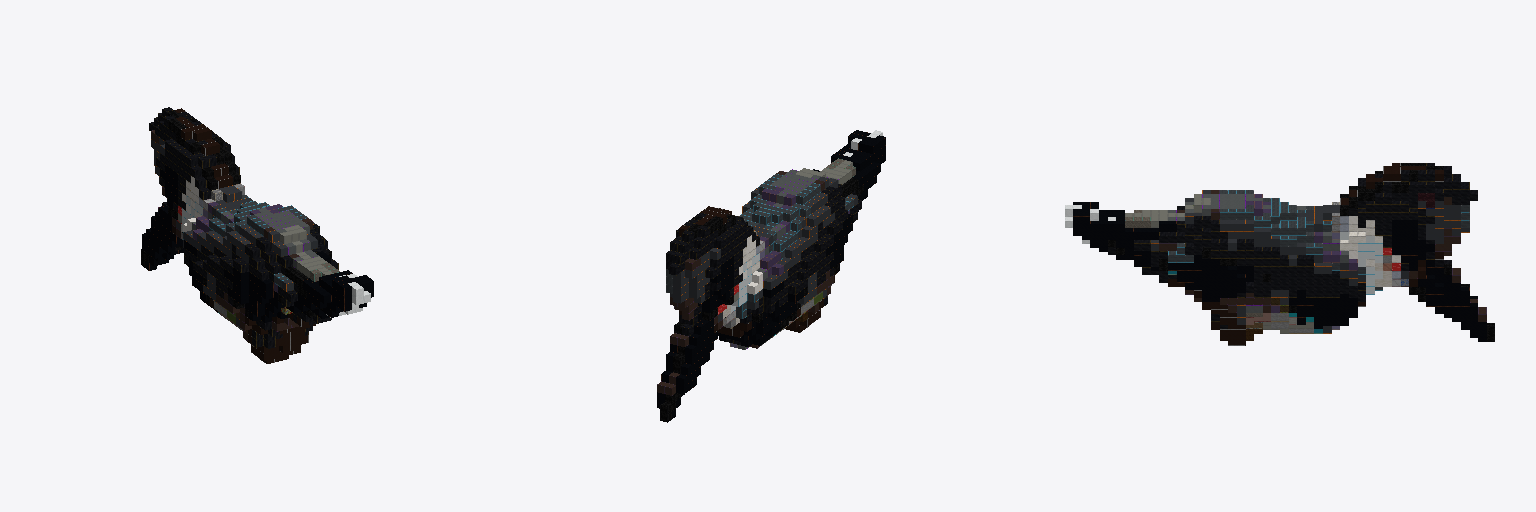
3 views of the same model, side by side, from view 1: azimuth 30°, elevation 25°; view 2: azimuth 150°, elevation 25°; view 3: azimuth 270°, elevation 25° (orthographic).
Bounding box in the file's own units: 12 × 22 × 50.
1 materials, 1 textured.